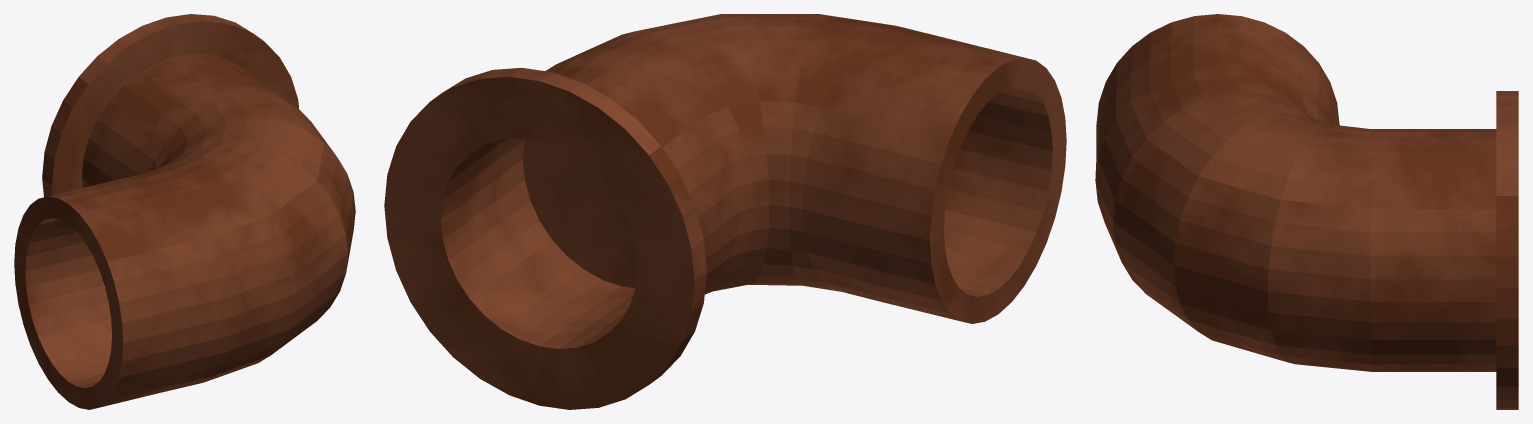
The model's file is One end angle pipe.glb.
The picture shows the model from 3 angles, left to right: view 1: azimuth 30°, elevation 25°; view 2: azimuth 150°, elevation 25°; view 3: azimuth 270°, elevation 25°; orthographic projection. The views are drawn at different scales.
Parts seen in each view (by area): view 1: Cylinder.036; view 2: Cylinder.036; view 3: Cylinder.036.
Part boxes in pixels (<box>): Cylinder.036: <box>14,14,355,409</box>; Cylinder.036: <box>384,14,1066,409</box>; Cylinder.036: <box>1095,14,1518,409</box>.
Size of the model in its own units: 0.7612 by 0.5298 by 0.702.
1 material, 1 textured.
